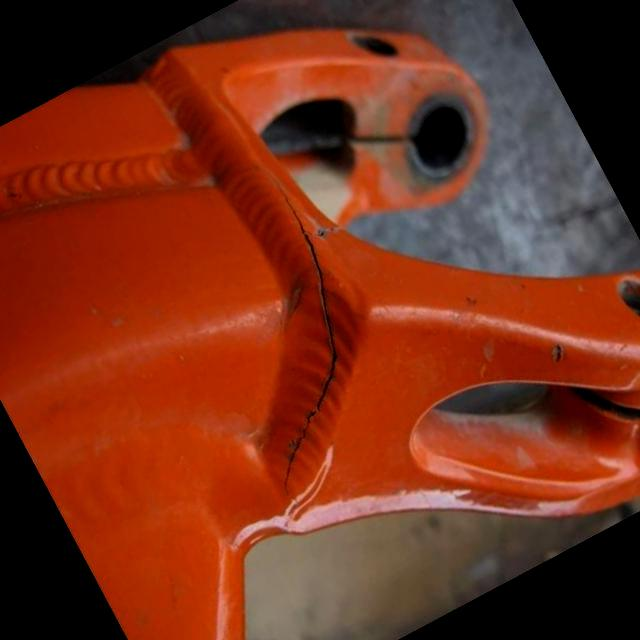defect: (254, 161, 346, 512)
